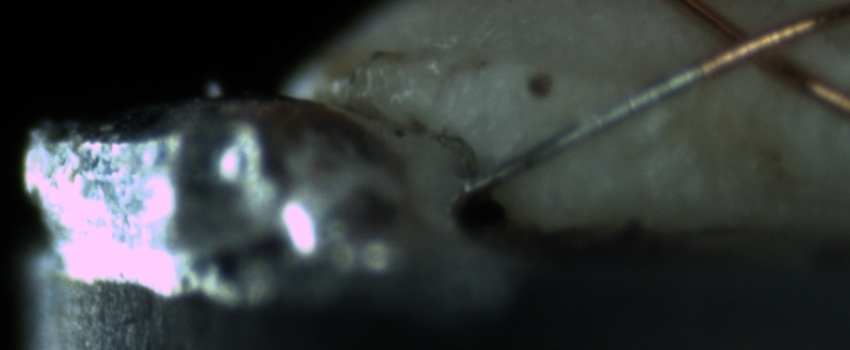CL: (695, 11, 797, 76)
TS: (467, 64, 703, 197)
